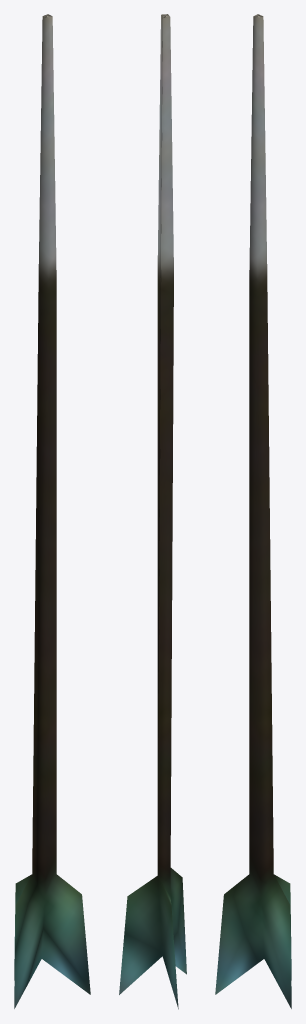
Rendered from tacticianArrow.glb.
The picture shows the model from 3 angles, left to right: view 1: azimuth 90°, elevation 25°; view 2: azimuth 150°, elevation 25°; view 3: azimuth 270°, elevation 25°; orthographic projection.
Parts seen in each view (by area): view 1: tacticianArrow; view 2: tacticianArrow; view 3: tacticianArrow.
Boxes of the visible parts, x1,y1,x2,y2 form: tacticianArrow: (14,14,90,1008); tacticianArrow: (119,14,186,1009); tacticianArrow: (215,14,291,1008).
Bounding box in the file's own units: 0.0745 × 1.16 × 0.0826.
Materials: 1 (1 with a texture image).
